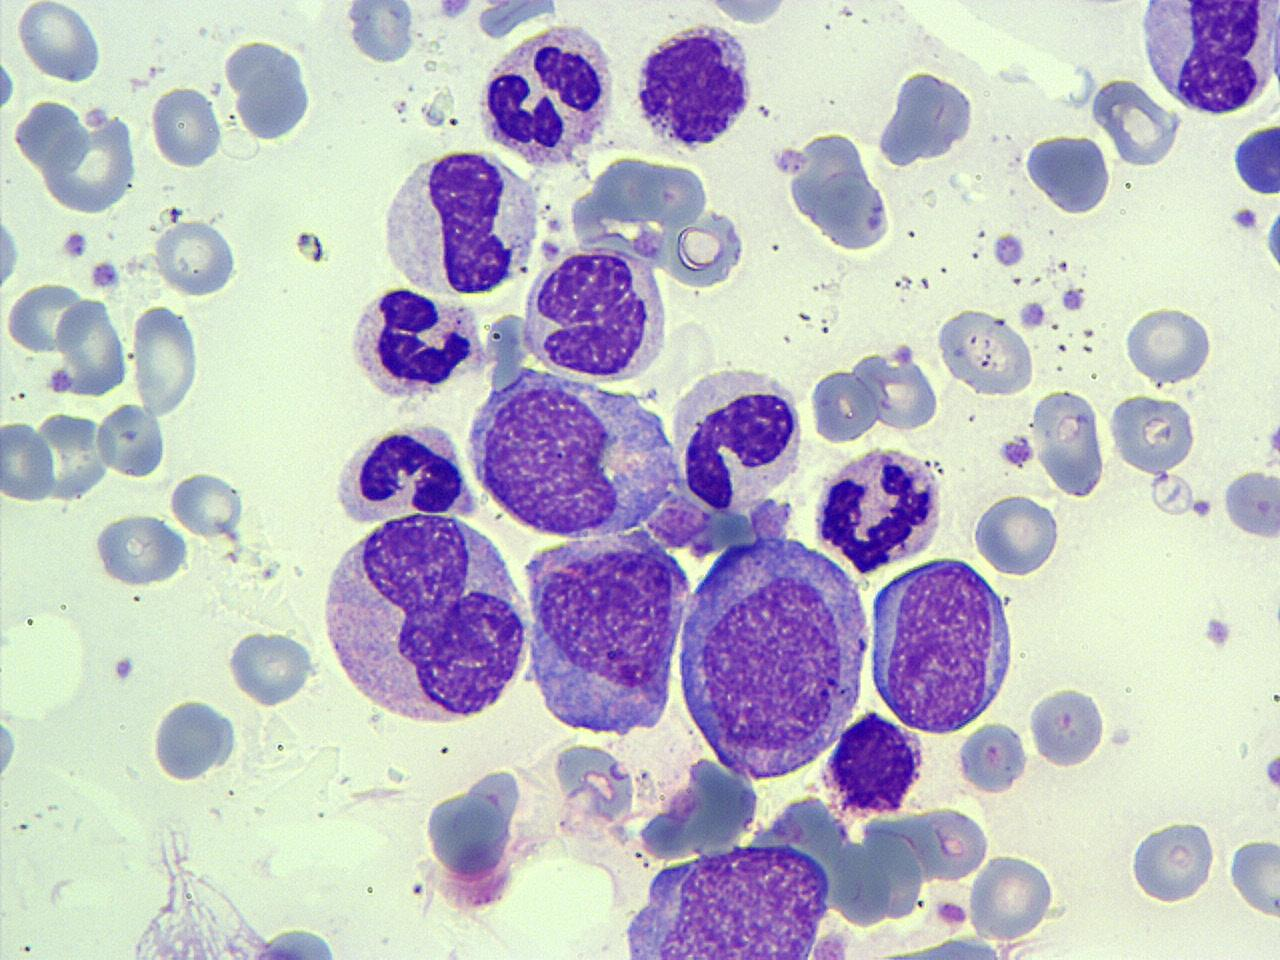Platelets: (1222, 470, 1280, 543), (0, 206, 23, 301), (0, 702, 20, 792), (992, 231, 1027, 270), (998, 434, 1035, 470), (770, 144, 808, 178), (1201, 614, 1235, 651), (1263, 206, 1280, 273), (0, 52, 18, 115), (90, 258, 121, 292), (1228, 205, 1260, 235), (61, 228, 89, 261), (1018, 298, 1046, 330), (1057, 285, 1087, 313), (47, 365, 74, 396), (437, 0, 473, 21), (1260, 753, 1280, 790), (111, 654, 137, 682), (1265, 422, 1280, 464), (1190, 496, 1215, 520), (892, 343, 915, 364), (169, 207, 185, 224), (918, 275, 930, 288)
RBC: (922, 0, 1168, 54), (32, 98, 137, 219), (934, 306, 1033, 398), (1029, 388, 1107, 500), (1090, 76, 1182, 168), (548, 740, 638, 836), (129, 302, 203, 417), (965, 854, 1056, 944), (92, 508, 191, 590), (971, 491, 1062, 579), (31, 406, 112, 504), (1127, 816, 1217, 904), (854, 344, 940, 434), (1107, 391, 1199, 475), (1122, 303, 1214, 386), (55, 294, 129, 398), (15, 1, 106, 84), (666, 206, 750, 294), (224, 628, 317, 706), (152, 217, 240, 299), (1028, 682, 1108, 769), (908, 804, 990, 884), (148, 84, 222, 171), (3, 280, 83, 355), (956, 716, 1030, 796), (95, 400, 168, 480), (810, 366, 879, 446), (170, 470, 245, 541), (0, 419, 56, 503), (1227, 832, 1279, 922), (1221, 468, 1279, 543), (472, 0, 560, 39), (692, 0, 796, 28), (1148, 469, 1196, 519), (0, 203, 23, 303), (990, 231, 1026, 268)
WBC: (584, 701, 1059, 960), (672, 532, 874, 786), (318, 506, 533, 732), (466, 362, 676, 547), (519, 526, 690, 741), (866, 554, 1020, 738), (376, 143, 544, 303), (619, 842, 847, 959), (109, 870, 358, 960), (668, 361, 808, 519), (518, 242, 670, 387), (476, 17, 618, 172), (344, 282, 488, 409), (814, 442, 946, 578), (422, 764, 540, 912), (1134, 1, 1280, 119), (632, 18, 758, 152), (780, 123, 898, 258), (330, 419, 475, 528), (21, 91, 142, 219), (872, 66, 980, 171), (822, 712, 926, 818), (222, 35, 316, 145), (1090, 75, 1180, 170), (148, 694, 240, 784), (91, 510, 191, 590), (1023, 130, 1113, 217), (225, 628, 316, 708), (344, 1, 415, 66), (1222, 466, 1280, 542), (1230, 118, 1280, 200)
